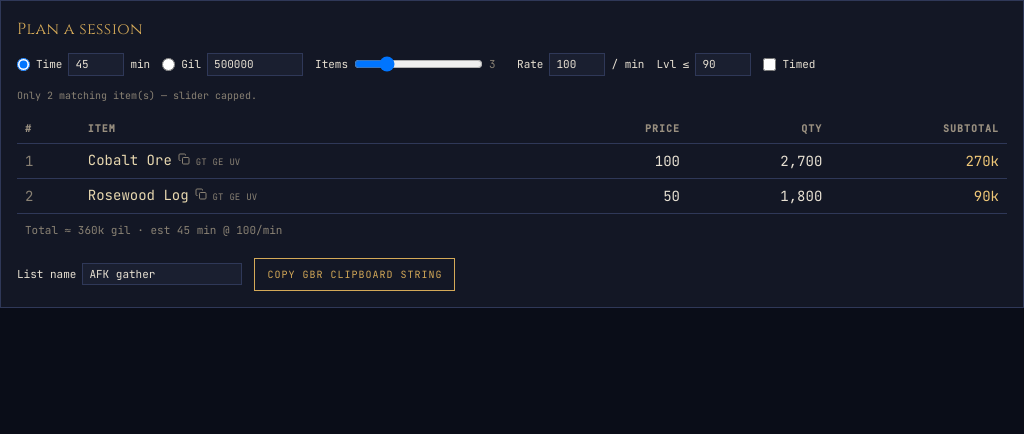
Test: GatheringPlanner › falls back to a readonly textarea when clipboard write rejects
Click the button "Copy GBR clipboard string" at (355, 274), box [254,258,455,290]
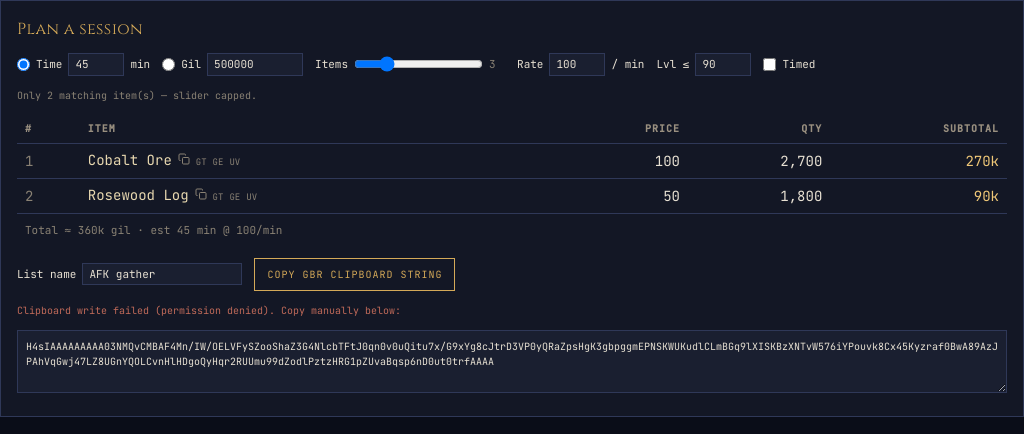
Now the text "Clipboard write failed" is shown, box [17,304,161,316]
Now the text box is shown, box [17,330,1007,392]
